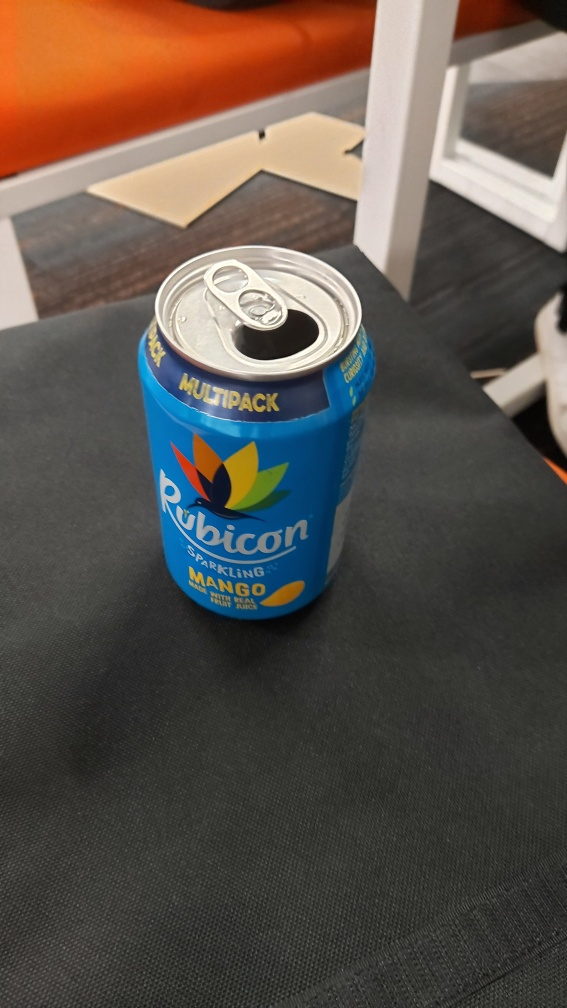can_blue: (92, 223, 402, 661)
